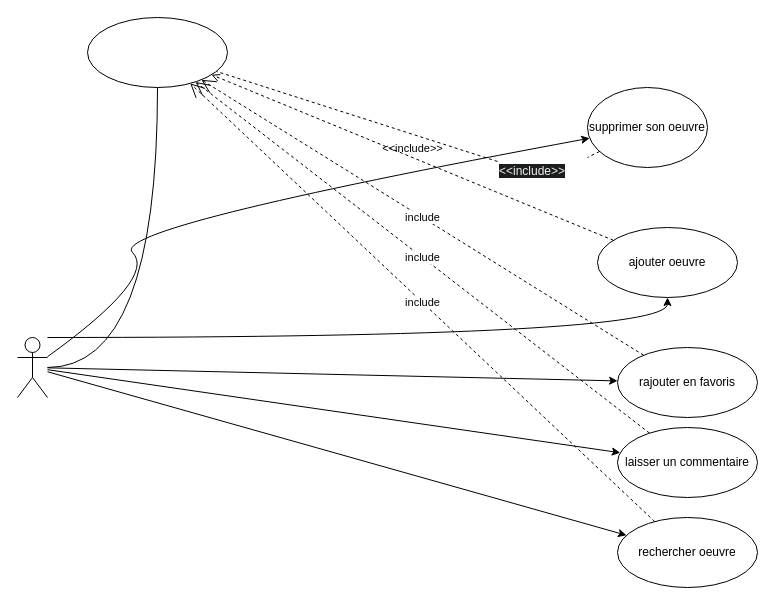
Some shapes in this 775 by 605 pixel diagram are drawn without their labels. The centre of each missing label's shape, as x and y in pixels:
"se connecter" goes at point 157,52.
"User" goes at point 32,367.
